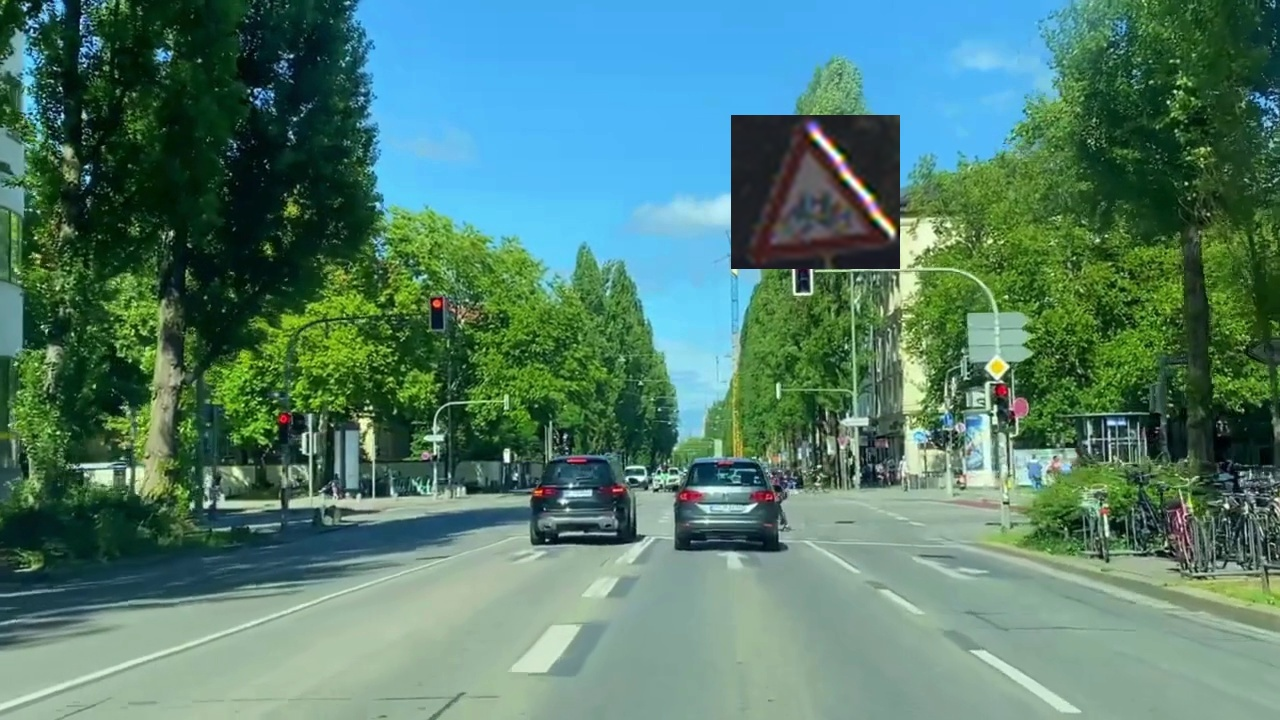Bicycles: (731, 115, 900, 269)
